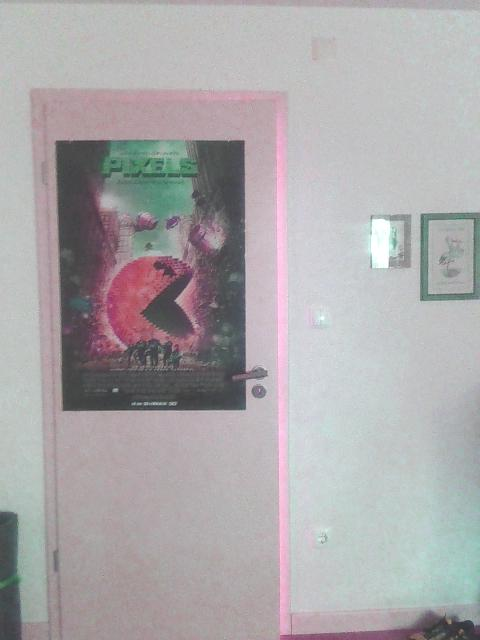closed_door: (24, 86, 289, 639)
